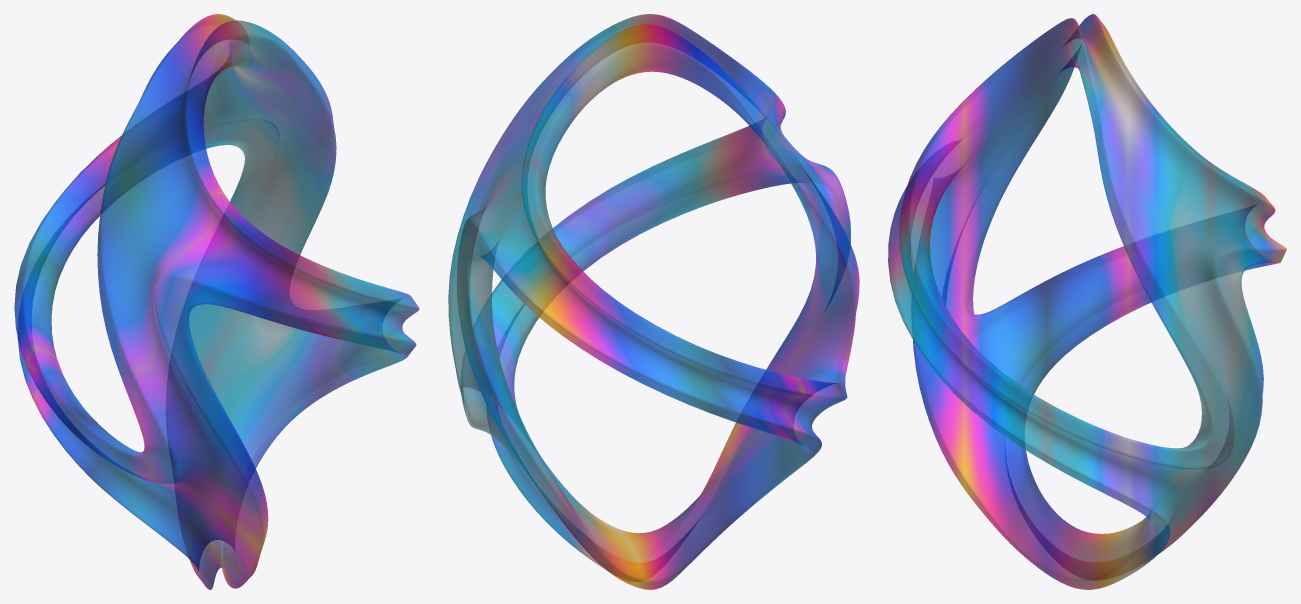
File: pendant.glb
3 renders of one model, left to right at view 1: azimuth 30°, elevation 25°; view 2: azimuth 150°, elevation 25°; view 3: azimuth 270°, elevation 25°, orthographic.
Parts seen in each view (by area): view 1: Hedra001; view 2: Hedra001; view 3: Hedra001.
Boxes of the visible parts, x1,y1,x2,y2 form: Hedra001: (14,14,419,589); Hedra001: (448,14,859,589); Hedra001: (888,14,1286,589).
Size of the model in its own units: 1.84 by 2.88 by 1.84.
1 material, 1 textured.
